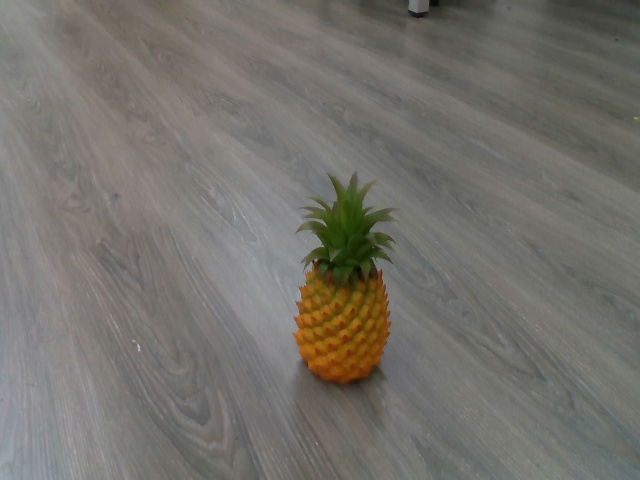pineapple: (290, 169, 407, 394)
